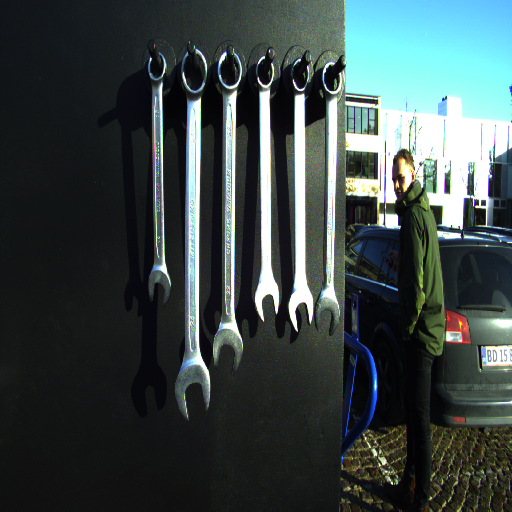bottom: (173, 365, 212, 420), (210, 328, 244, 373), (312, 294, 342, 340), (287, 289, 314, 334), (254, 282, 280, 322), (144, 267, 172, 304)
top: (179, 47, 211, 98), (215, 50, 244, 94), (253, 55, 278, 93), (320, 61, 344, 100), (289, 57, 311, 98), (145, 51, 170, 84)
